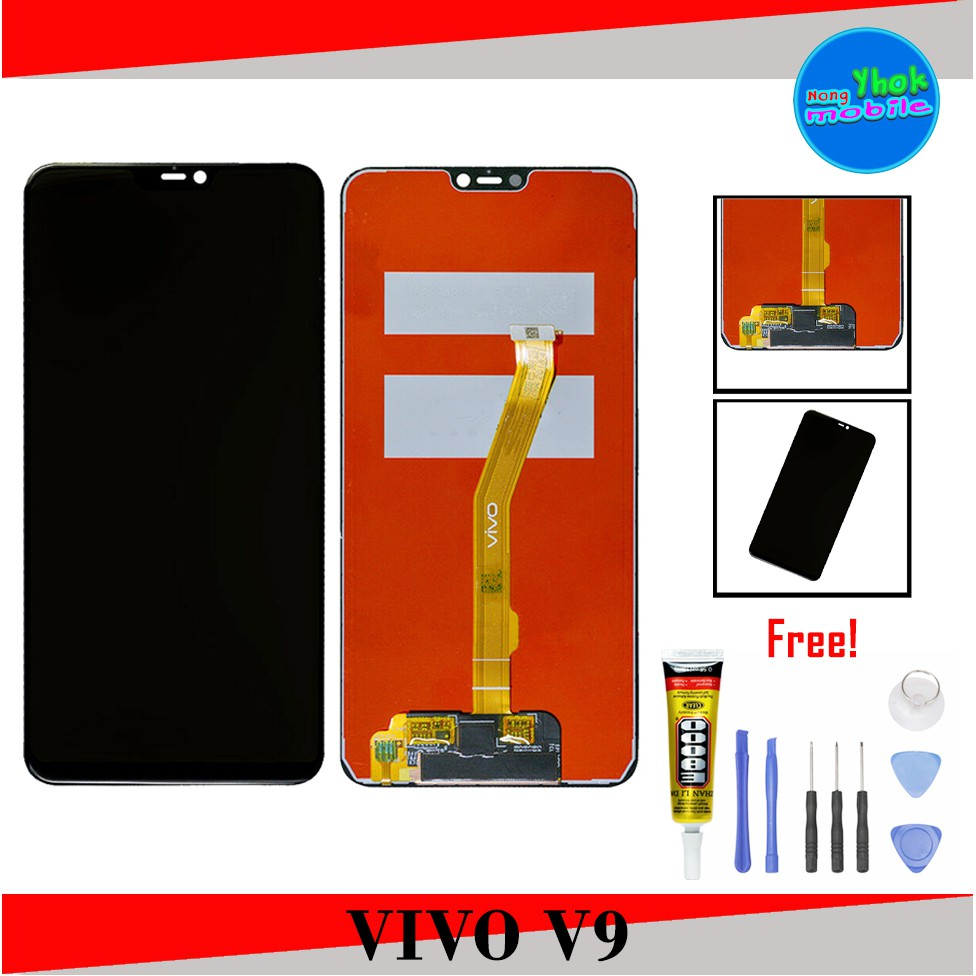phone: (328, 157, 649, 792), (16, 153, 333, 793)
